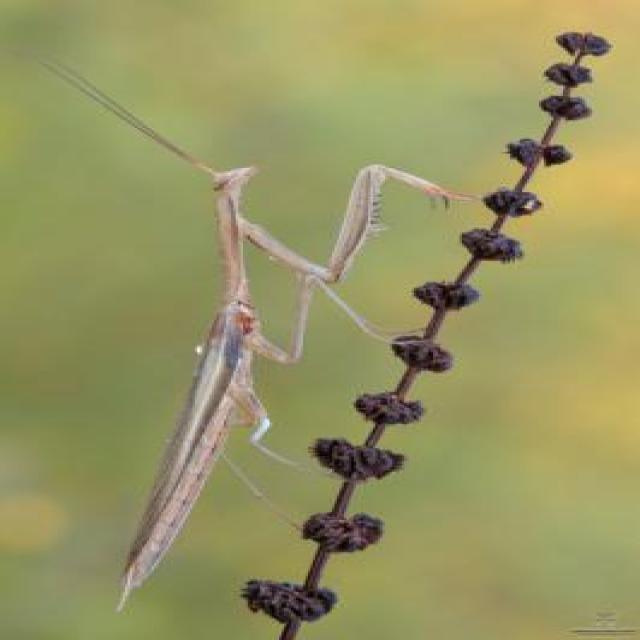antennae: (56, 64, 215, 169)
body: (120, 168, 258, 601)
insect: (55, 53, 478, 613)
legs: (240, 165, 455, 277), (242, 271, 422, 355), (202, 451, 316, 528), (241, 380, 319, 467)
mouthpart: (240, 167, 262, 181)
wings: (121, 314, 247, 559)
